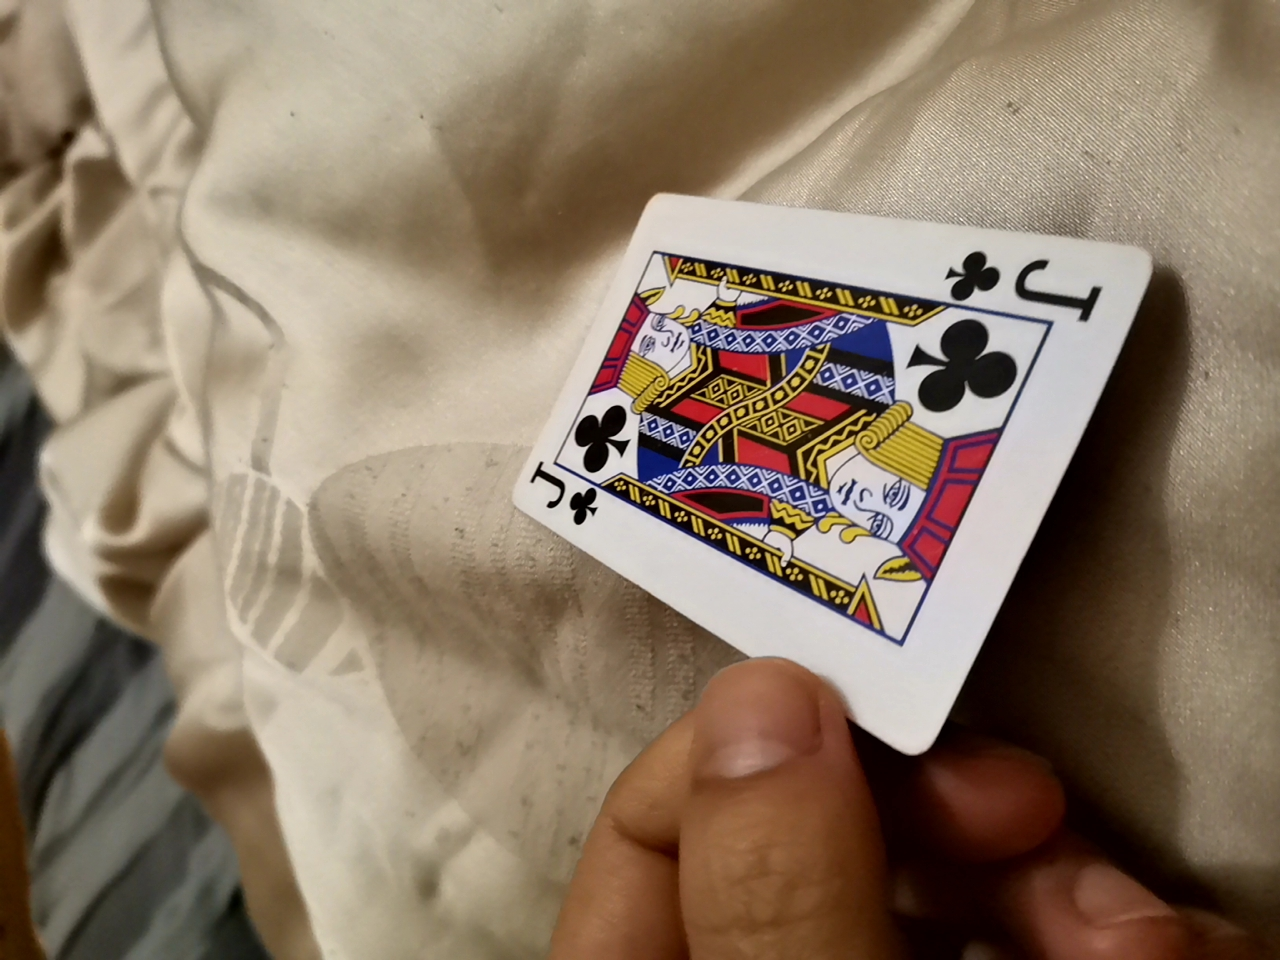mh j: (475, 186, 1124, 766)
